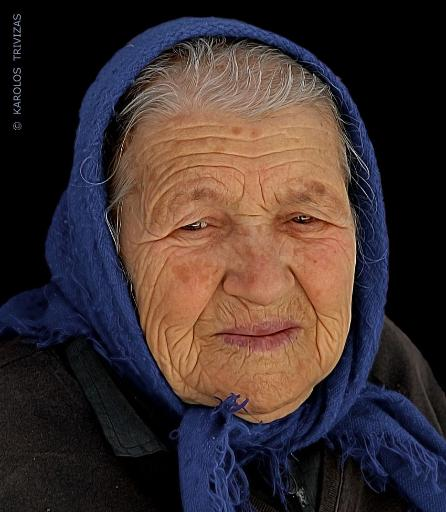left_eye: (285, 212, 333, 233)
left_lip_corner: (290, 318, 311, 341)
right_eye: (172, 215, 222, 237)
right_lip_corner: (206, 326, 229, 346)
